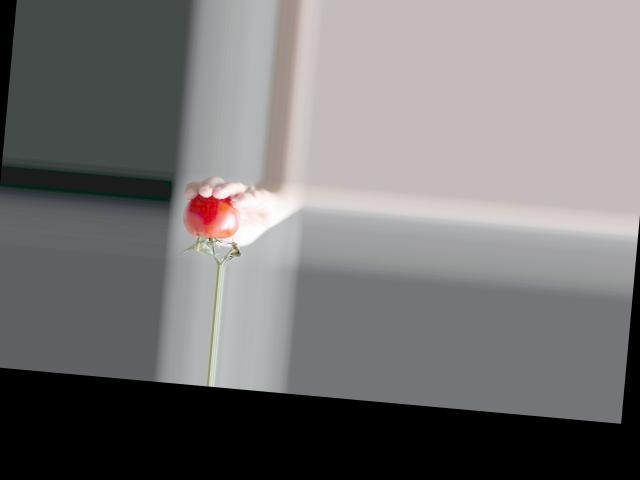tomato: (181, 192, 242, 242)
